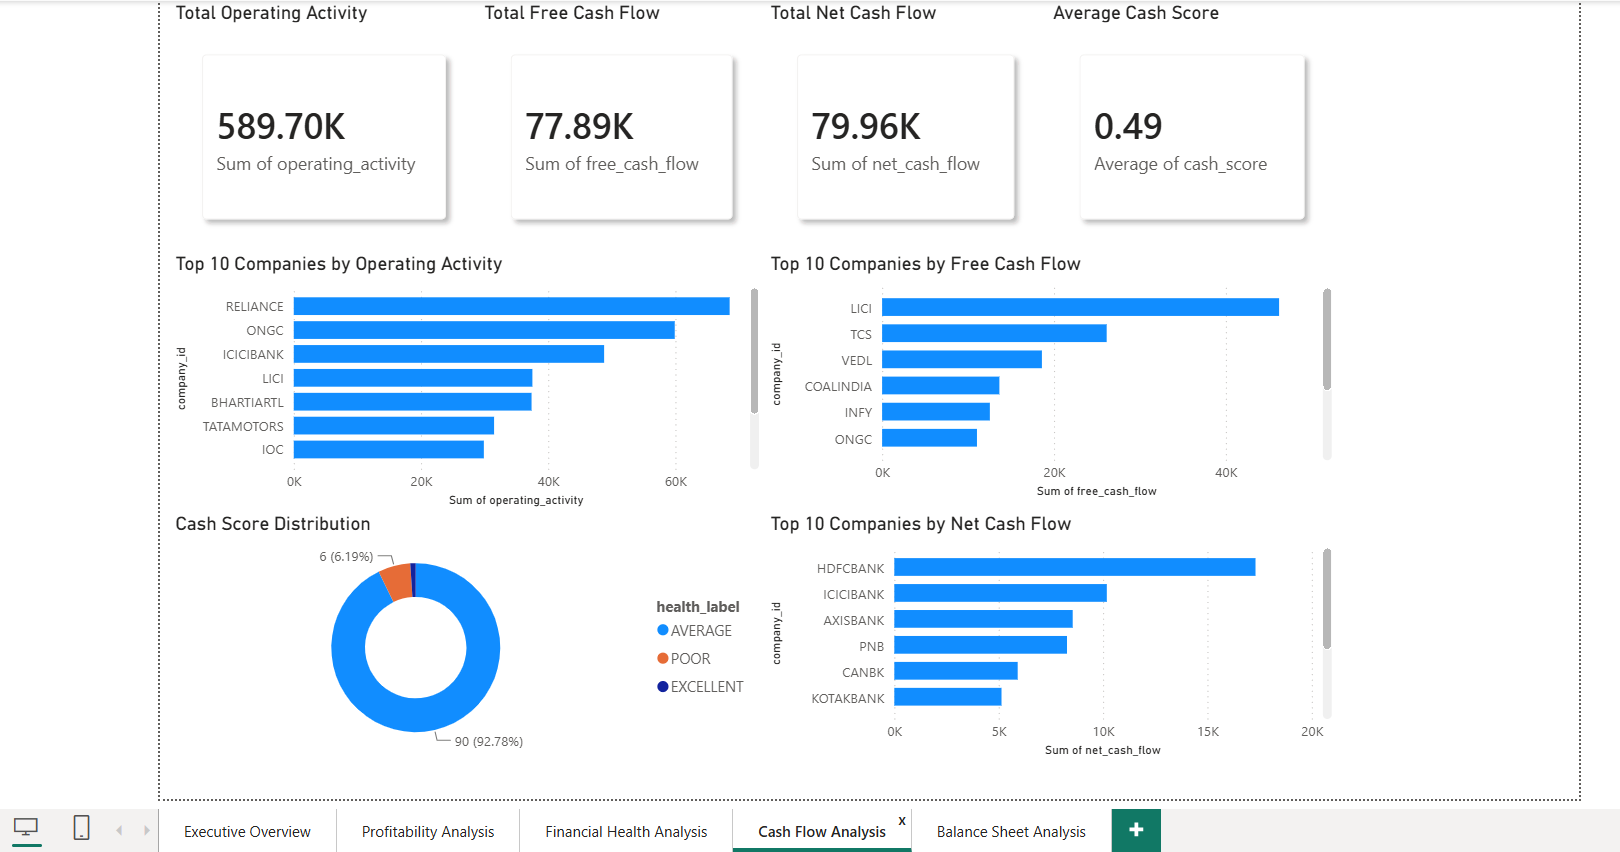

The dashboard page shown, as its layout file describes it:
{"tool":"powerbi","page":{"name":"Cash Flow Analysis","canvas":[1280,720],"ordinal":3},"visuals":[{"type":"cardVisual","title":"Total Operating Activity","fields":{"Data":["Sum(company_health_scores.operating_activity)"]},"box":[9.4,0,278.1,226.5],"z":0},{"type":"cardVisual","title":"Total Free Cash Flow","fields":{"Data":["Sum(company_health_scores.free_cash_flow)"]},"box":[287.5,0,258.2,226.5],"z":1000},{"type":"cardVisual","title":"Total Net Cash Flow","fields":{"Data":["Sum(company_health_scores.net_cash_flow)"]},"box":[545.7,0,254.6,226.5],"z":2000},{"type":"cardVisual","title":"Average Cash Score","fields":{"Data":["Avg(company_health_scores.cash_score)"]},"box":[800.3,0,261.5,226.6],"z":3000},{"type":"clusteredBarChart","title":"Top 10 Companies by Operating Activity","fields":{"Category":["company_health_scores.company_id"],"Y":["Sum(company_health_scores.operating_activity)"]},"box":[9.4,226.5,536.3,234.7],"z":4000},{"type":"clusteredBarChart","title":"Top 10 Companies by Free Cash Flow","fields":{"Category":["company_health_scores.company_id"],"Y":["Sum(company_health_scores.free_cash_flow)"]},"box":[545.5,226.6,516.2,226.6],"z":5000},{"type":"clusteredBarChart","title":"Top 10 Companies by Net Cash Flow","fields":{"Category":["company_health_scores.company_id"],"Y":["Sum(company_health_scores.net_cash_flow)"]},"box":[545.5,461,516.2,225.4],"z":6000},{"type":"donutChart","title":"Cash Score Distribution","fields":{"Category":["company_health_scores.health_label"],"Y":["Count(company_health_scores.company_id)"]},"box":[9,461,536.5,225.4],"z":7000}]}

Visuals, with their boxes on the page's 1280x720 design canvas (x1, y1, x2, y2). These are canvas units, not pixel positions in the 1620x852 screenshot, which may show the page scaled, cropped or inside an application window:
"Total Operating Activity" cardVisual: [9, 0, 288, 226]
"Total Free Cash Flow" cardVisual: [288, 0, 546, 226]
"Total Net Cash Flow" cardVisual: [546, 0, 800, 226]
"Average Cash Score" cardVisual: [800, 0, 1062, 227]
"Top 10 Companies by Operating Activity" clusteredBarChart: [9, 226, 546, 461]
"Top 10 Companies by Free Cash Flow" clusteredBarChart: [546, 227, 1062, 453]
"Top 10 Companies by Net Cash Flow" clusteredBarChart: [546, 461, 1062, 686]
"Cash Score Distribution" donutChart: [9, 461, 546, 686]
